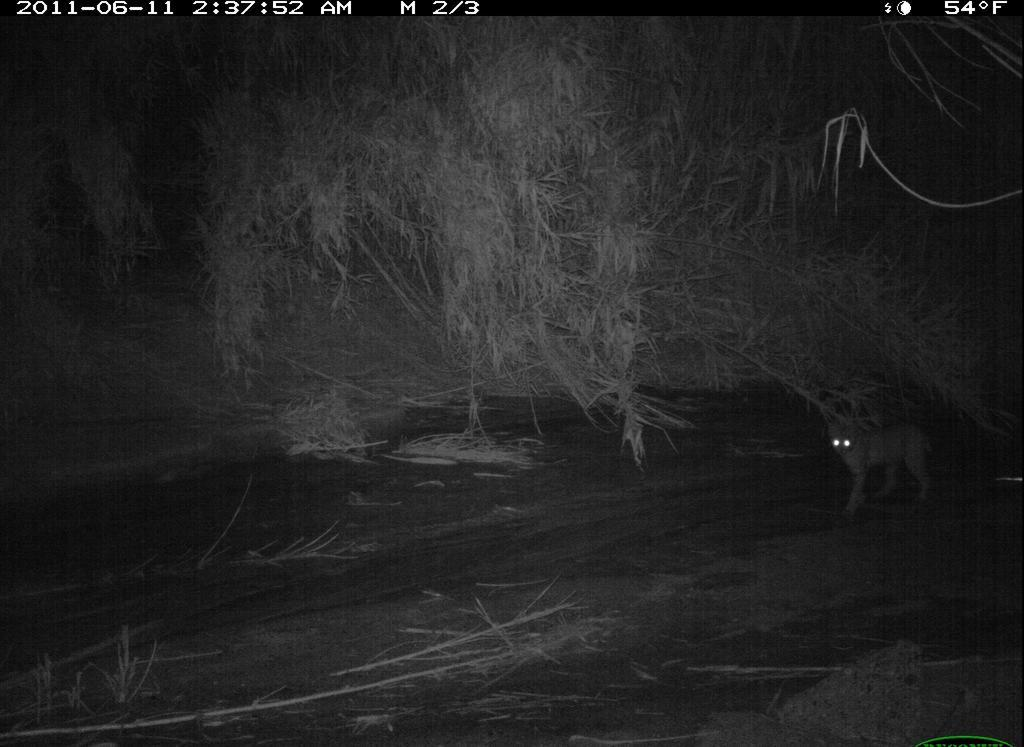bobcat: (809, 402, 952, 529)
